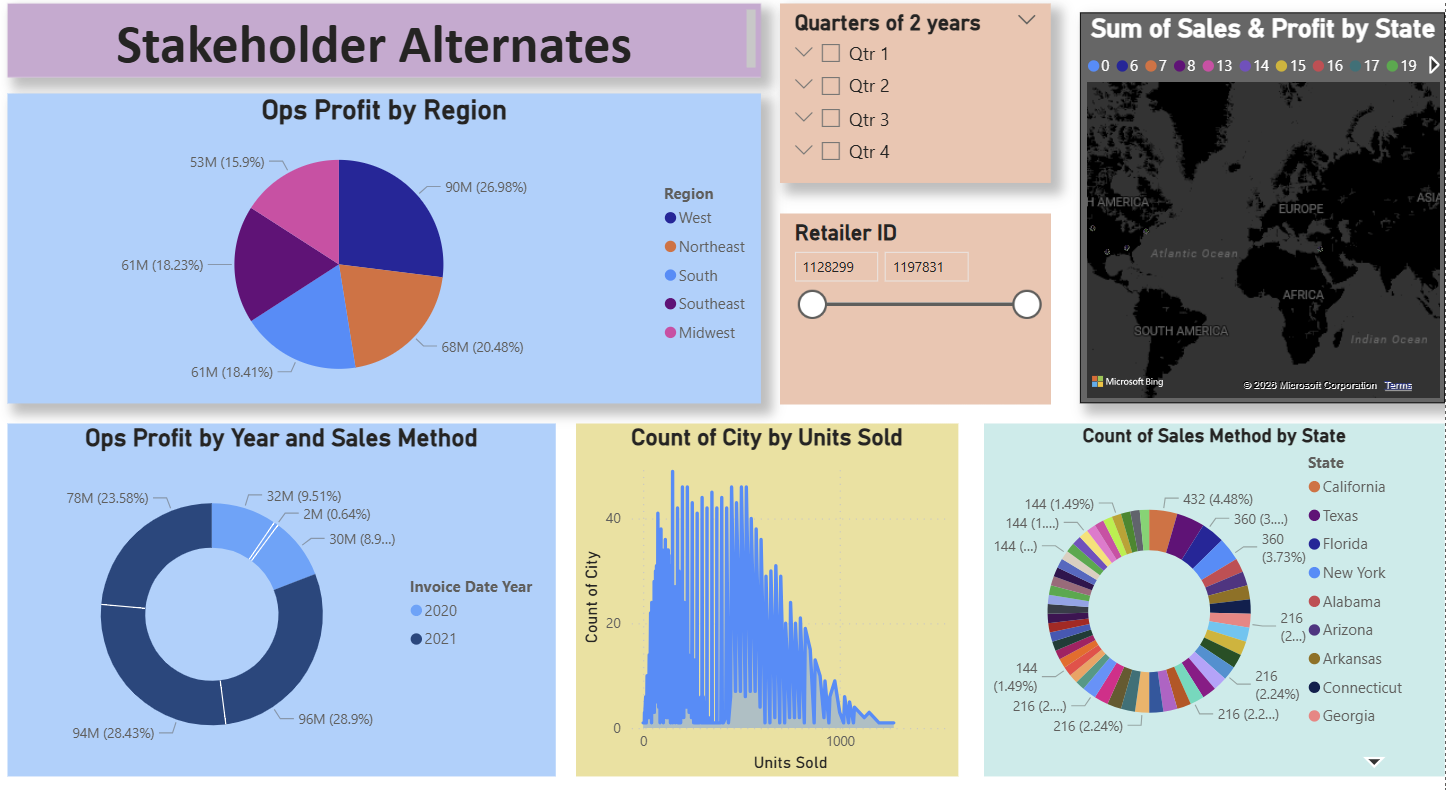

Layout of this report page (visuals, bound fields, positions):
{"tool":"powerbi","page":{"name":"Page 2","canvas":[1280,720],"ordinal":1},"visuals":[{"type":"textbox","box":[9.1,15.1,666.3,65.1],"z":0},{"type":"pieChart","title":"Ops Profit by Region","fields":{"Category":["Sheet1.Region"],"Y":["Sum(Sheet1.Operating Profit)"]},"box":[9.1,93.9,666.3,274.1],"z":1000},{"type":"map","title":"Sum of Sales & Profit by State","fields":{"Series":["Sheet1.Units Sold"],"Category":["Sheet1.Region"]},"box":[957,22.7,322.5,345.2],"z":2000},{"type":"slicer","fields":{"Values":["Sheet1.Invoice Date.Variation.Date Hierarchy.Quarter","Sheet1.Invoice Date.Variation.Date Hierarchy.Month"]},"box":[692,15.1,239.2,159],"z":3000},{"type":"slicer","fields":{"Values":["Sheet1.Retailer ID"]},"box":[692,199.9,239.2,168.1],"z":4000},{"type":"donutChart","title":"Ops Profit by Year and Sales Method","fields":{"Category":["Sheet1.Invoice Date.Variation.Date Hierarchy.Year","Sheet1.Invoice Date.Variation.Date Hierarchy.Quarter","Sheet1.Invoice Date.Variation.Date Hierarchy.Month","Sheet1.Invoice Date.Variation.Date Hierarchy.Day"],"Y":["Sum(Sheet1.Operating Profit)"],"Series":["Sheet1.Sales Method"]},"box":[9.1,386.1,484.5,311.9],"z":5000},{"type":"stackedAreaChart","fields":{"Category":["Sheet1.Units Sold"],"Y":["Count(Sheet1.City)"]},"box":[511.8,386.1,337.7,311.9],"z":6000},{"type":"donutChart","fields":{"Y":["CountNonNull(Sheet1.Sales Method)"],"Category":["Sheet1.State"]},"box":[872.2,386.1,407.3,311.9],"z":7000}]}

Visuals, with their boxes in screenshot pixels (x1, y1, x2, y2), scaled from the page's 1280x720 canvas onto the 1446x790 screenshot:
textbox: <bbox>10, 17, 763, 88</bbox>
"Ops Profit by Region" pieChart: <bbox>10, 103, 763, 404</bbox>
"Sum of Sales & Profit by State" map: <bbox>1081, 25, 1445, 404</bbox>
slicer - Sheet1.Invoice Date.Variation.Date Hierarchy.Quarter x Sheet1.Invoice Date.Variation.Date Hierarchy.Month: <bbox>782, 17, 1052, 191</bbox>
slicer - Sheet1.Retailer ID: <bbox>782, 219, 1052, 404</bbox>
"Ops Profit by Year and Sales Method" donutChart: <bbox>10, 424, 558, 766</bbox>
stackedAreaChart - Sheet1.Units Sold x Count(Sheet1.City): <bbox>578, 424, 960, 766</bbox>
donutChart - CountNonNull(Sheet1.Sales Method) x Sheet1.State: <bbox>985, 424, 1445, 766</bbox>
